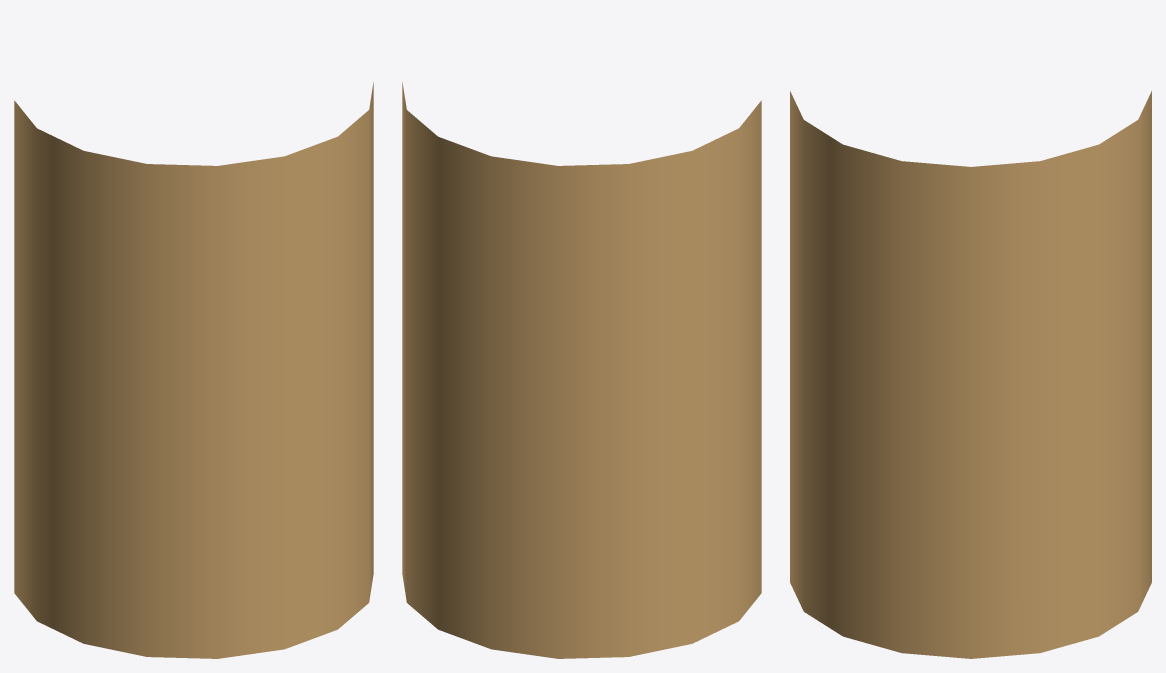
File: chr_dinah_dream.glb
The picture shows the model from 3 angles, left to right: view 1: azimuth 30°, elevation 25°; view 2: azimuth 150°, elevation 25°; view 3: azimuth 270°, elevation 25°; orthographic projection.
Parts seen in each view (by area): view 1: Dinah_Cat; view 2: Dinah_Cat; view 3: Dinah_Cat.
Part boxes in pixels (<box>): Dinah_Cat: <box>14,82,373,658</box>; Dinah_Cat: <box>402,82,761,658</box>; Dinah_Cat: <box>790,91,1151,658</box>.
Bounding box in the file's own units: 0.2 × 0.3 × 0.2.
